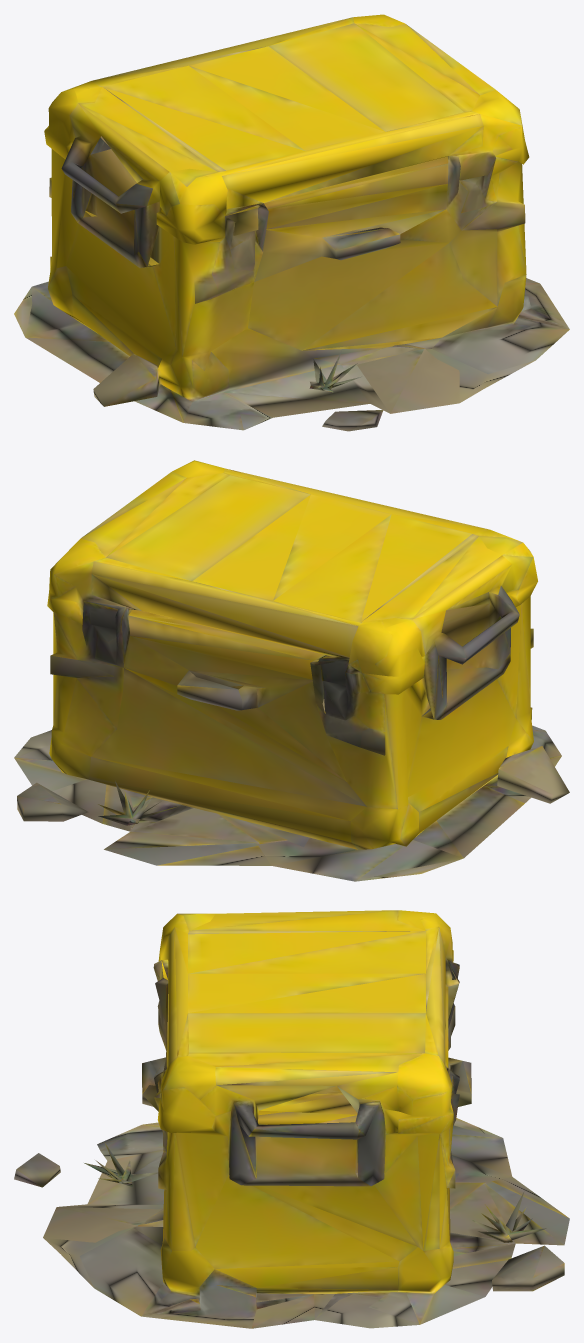
The picture shows the model from 3 angles, top to bottom: view 1: azimuth 30°, elevation 25°; view 2: azimuth 150°, elevation 25°; view 3: azimuth 270°, elevation 25°; orthographic projection.
Size of the model in its own units: 1.78 by 0.8454 by 1.86.
1 material, 1 textured.
